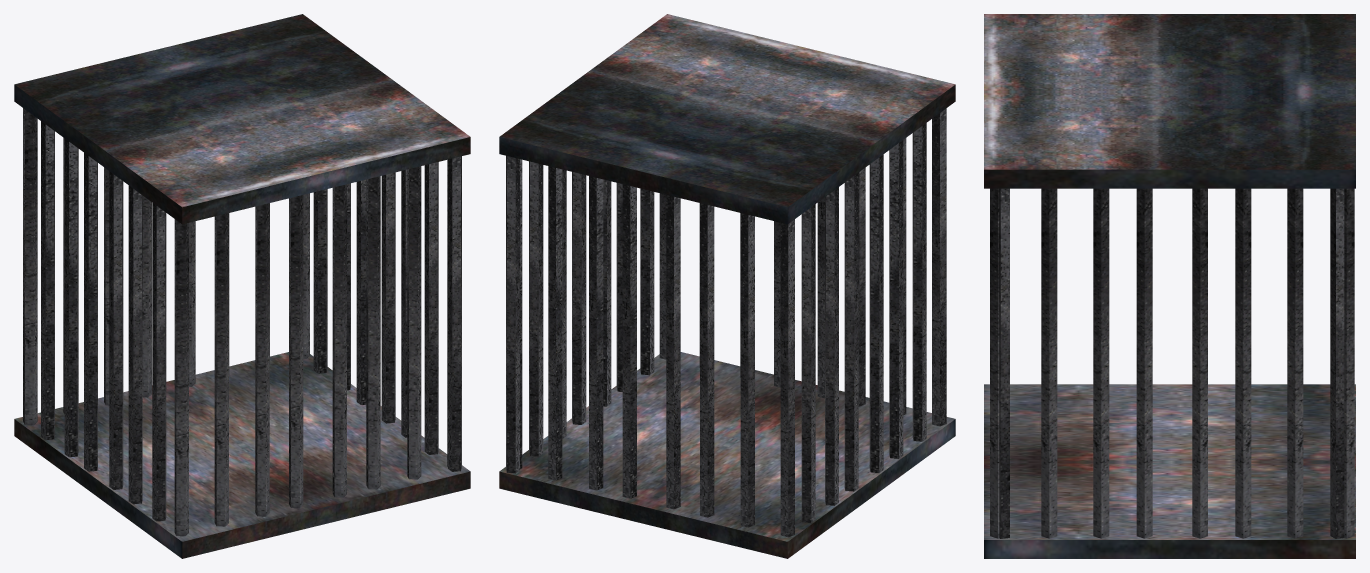
The model's file is cagetest1.gltf.
3 renders of one model, left to right at view 1: azimuth 30°, elevation 25°; view 2: azimuth 150°, elevation 25°; view 3: azimuth 270°, elevation 25°, orthographic. The views are drawn at different scales.
Visible parts, largest first — view 1: Cube; view 2: Cube; view 3: Cube.
Part boxes in pixels (left/top/right/bottom): Cube: left=14, top=14, right=470, bottom=558; Cube: left=499, top=14, right=955, bottom=558; Cube: left=984, top=14, right=1355, bottom=558.
Bounding box in the file's own units: 3.97 × 4.62 × 4.
Materials: 1 (1 with a texture image).
